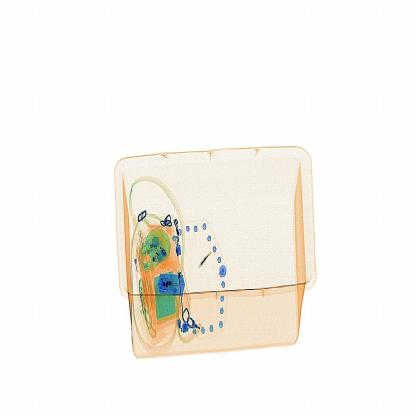wrench: (191, 239, 223, 279)
